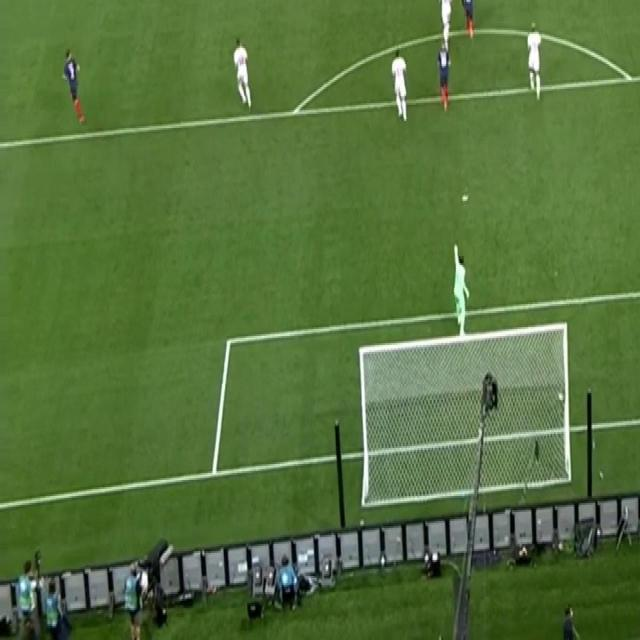player-white: (61, 48, 87, 127), (451, 241, 470, 338), (232, 35, 252, 113), (391, 48, 411, 122), (526, 19, 542, 102), (436, 40, 452, 118), (436, 0, 454, 52), (460, 0, 476, 42)
